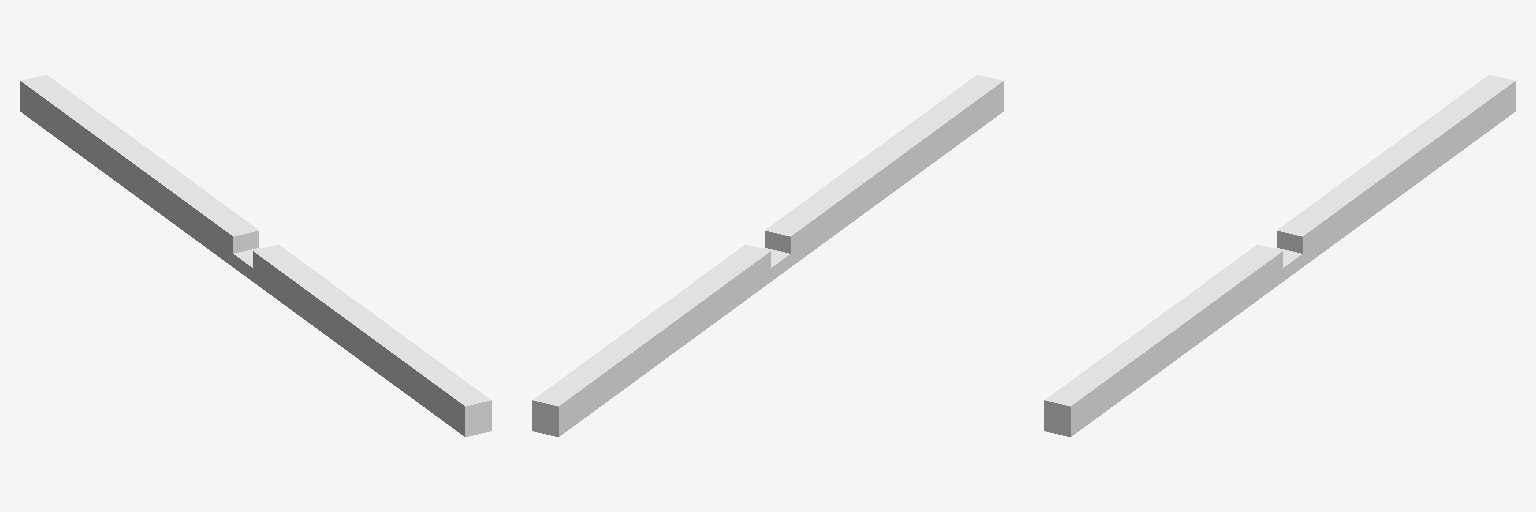
The robot description file, URDF, robot "assembly":
<?xml version="0.0" ?>
<robot name="assembly">

    <material name="white">
        <color rgba="1 1 1 1"/>
    </material>

    <link name="base">
        <inertial>
            <origin rpy="0 0 0" xyz="0 0 0"/>
            <mass value="0.0"/>
            <inertia ixx="0.001" ixy="0" ixz="0" iyy="0.001" iyz="0" izz="0.001"/>
        </inertial>
    </link>

    <joint name="assembly" type="fixed">
        <parent link="base"/>
        <child link="assembly"/>
        <origin rpy="0 0 0" xyz="0 0 0"/>
        <dynamics damping="0.5"/>
    </joint>

    <link name="assembly">
        <inertial>
            <mass value="0.3"/>
            <inertia ixx="0.001" ixy="0" ixz="0" iyy="0.001" iyz="0" izz="0.001"/>
        </inertial>
        <visual>
            <geometry>
                <mesh filename="stl/task_lap_90deg_2mm_visual.stl" scale="0.001 0.001 0.001"/>
            </geometry>
            <material name="white"/>
        </visual>
        <collision>
            <geometry>
                <mesh filename="stl/task_lap_90deg_2mm_1.stl" scale="0.001 0.001 0.001"/>
            </geometry>
        </collision>
        <collision>
            <geometry>
                <mesh filename="stl/task_lap_90deg_2mm_2.stl" scale="0.001 0.001 0.001"/>
            </geometry>
        </collision>
        <collision>
            <geometry>
                <mesh filename="stl/task_lap_90deg_2mm_3.stl" scale="0.001 0.001 0.001"/>
            </geometry>
        </collision>
    </link>

</robot>

--- What the picture shows (computed from the rendered views, not written in the file) ---
Views: 3 orthographic renders of the robot side by side, from view 1: azimuth 30°, elevation 25°; view 2: azimuth 150°, elevation 25°; view 3: azimuth 330°, elevation 25°.
Robot: assembly — 2 links, 1 joints (1 fixed); root link base; default pose: all joints at 0.
Links seen in each view (by area): view 1: assembly; view 2: assembly; view 3: assembly.
Link boxes in pixels (box(x1,y1,x2,y2)): assembly: box(20, 75, 491, 436); assembly: box(532, 75, 1003, 436); assembly: box(1044, 75, 1515, 436).
Size in the robot's own frame: 0.0309 by 0.9144 by 0.0349 metres.
1 mesh visuals loaded from 1 distinct referenced files (1 binary STL).